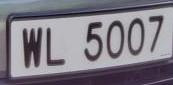0: (104, 15, 126, 64), (126, 12, 147, 61)
5: (82, 16, 106, 68)
7: (145, 10, 167, 59)
L: (43, 21, 70, 73)
W: (18, 22, 46, 74)
